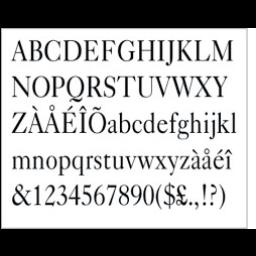d: (64, 38, 82, 62)
e: (84, 35, 100, 61)
f: (98, 33, 116, 65)
g: (118, 36, 136, 62)
h: (135, 32, 155, 62)
i: (156, 34, 164, 64)
q: (68, 74, 84, 106)
